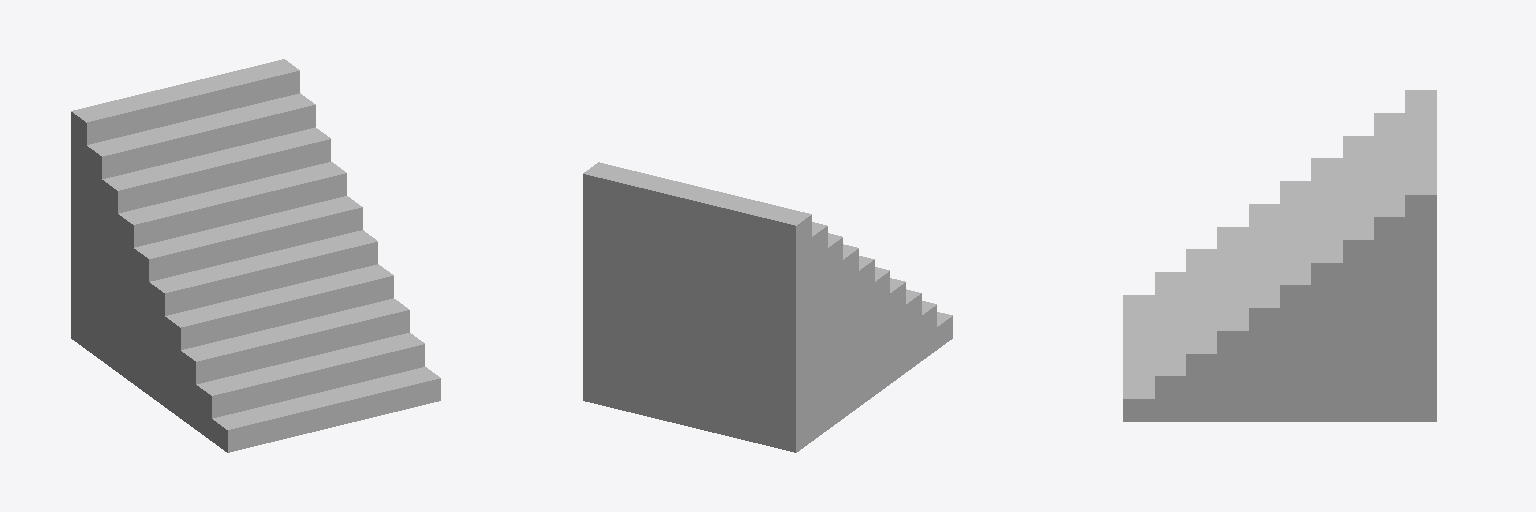
File: Stairs.obj
The picture shows the model from 3 angles: view 1: azimuth 30°, elevation 25°; view 2: azimuth 150°, elevation 25°; view 3: azimuth 270°, elevation 25°; orthographic projection.
Visible parts, largest first — view 1: Cube; view 2: Cube; view 3: Cube.
Part boxes in pixels (left/top/right/bottom): Cube: left=71, top=59, right=440, bottom=452; Cube: left=583, top=162, right=952, bottom=452; Cube: left=1123, top=90, right=1436, bottom=421.
Bounding box in the file's own units: 2 × 2.03 × 2.54.